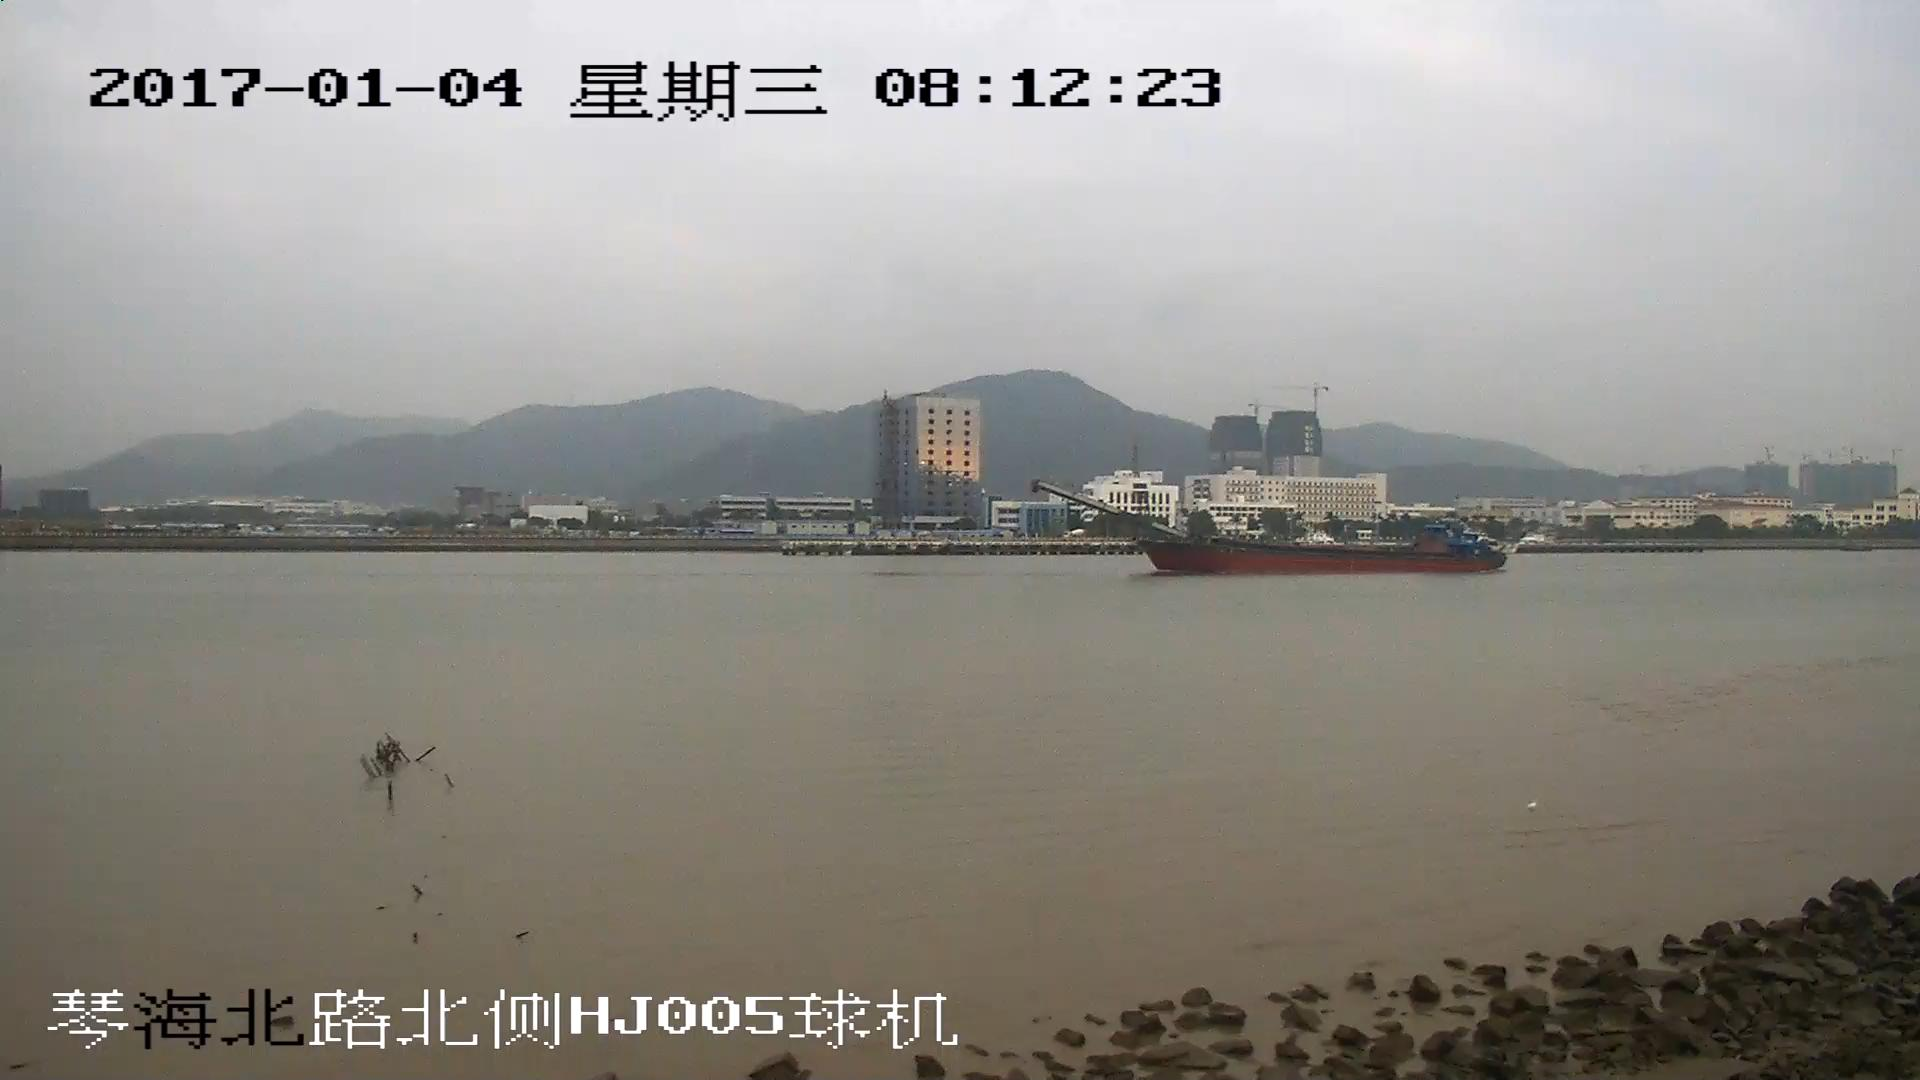bulk cargo carrier: (1037, 483, 1504, 573)
